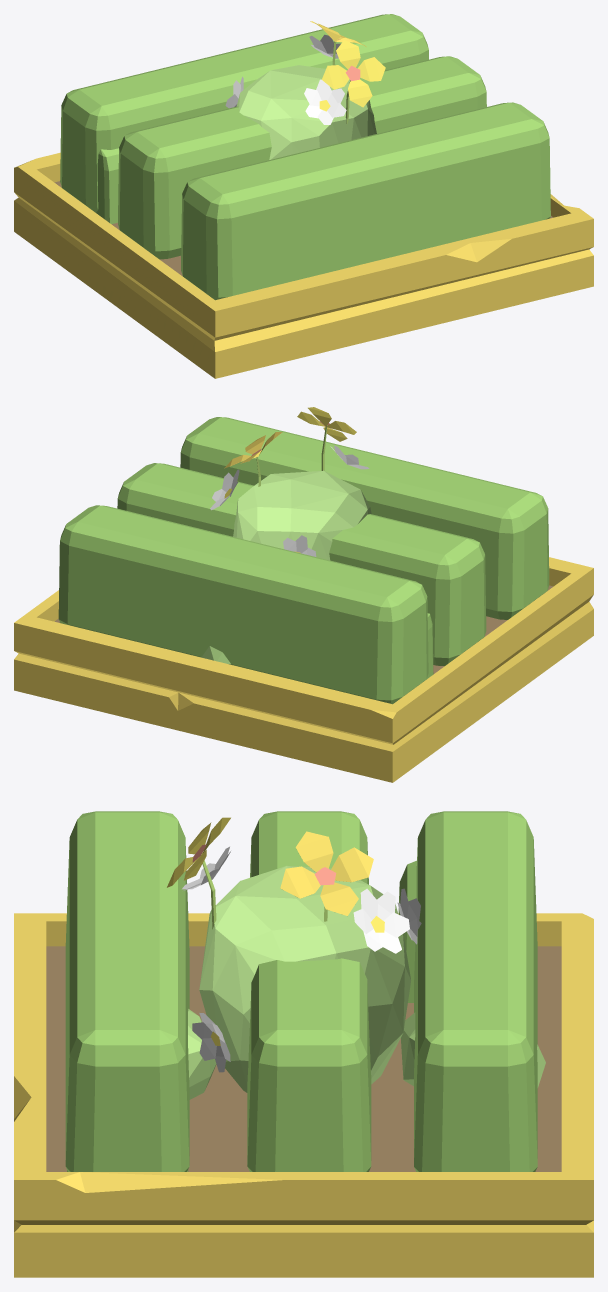
Rendered from Planter_Workshop_SetZ.fbx.
The picture shows the model from 3 angles, top to bottom: view 1: azimuth 30°, elevation 25°; view 2: azimuth 150°, elevation 25°; view 3: azimuth 270°, elevation 25°; orthographic projection. The views are drawn at different scales.
Visible parts, largest first — view 1: Planter_Workshop_A, Planter_Workshop_B, Planter_Workshop_C; view 2: Planter_Workshop_A, Planter_Workshop_B, Planter_Workshop_C; view 3: Planter_Workshop_A, Planter_Workshop_B, Planter_Workshop_C.
Boxes of the visible parts, x1,y1,x2,y2 form: Planter_Workshop_A: (14, 14, 593, 378); Planter_Workshop_B: (118, 56, 486, 259); Planter_Workshop_C: (96, 21, 385, 224); Planter_Workshop_A: (14, 417, 593, 782); Planter_Workshop_B: (117, 463, 486, 666); Planter_Workshop_C: (210, 407, 433, 678); Planter_Workshop_A: (14, 811, 593, 1277); Planter_Workshop_B: (188, 811, 545, 1171); Planter_Workshop_C: (67, 817, 421, 1171).
Bounding box in the file's own units: 42.75 × 25.24 × 39.33.
Materials: 1 (1 with a texture image).
